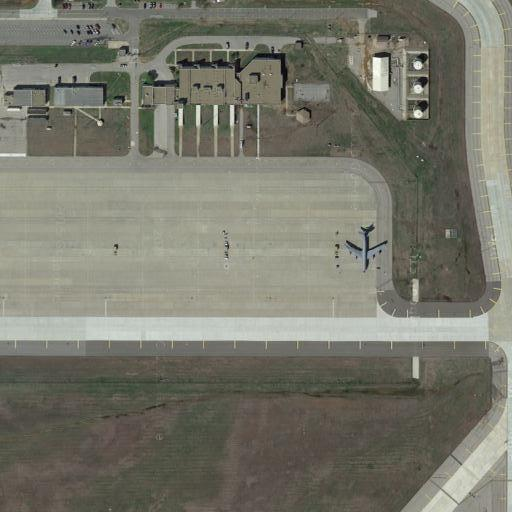KC-135: (341, 223, 390, 278)
